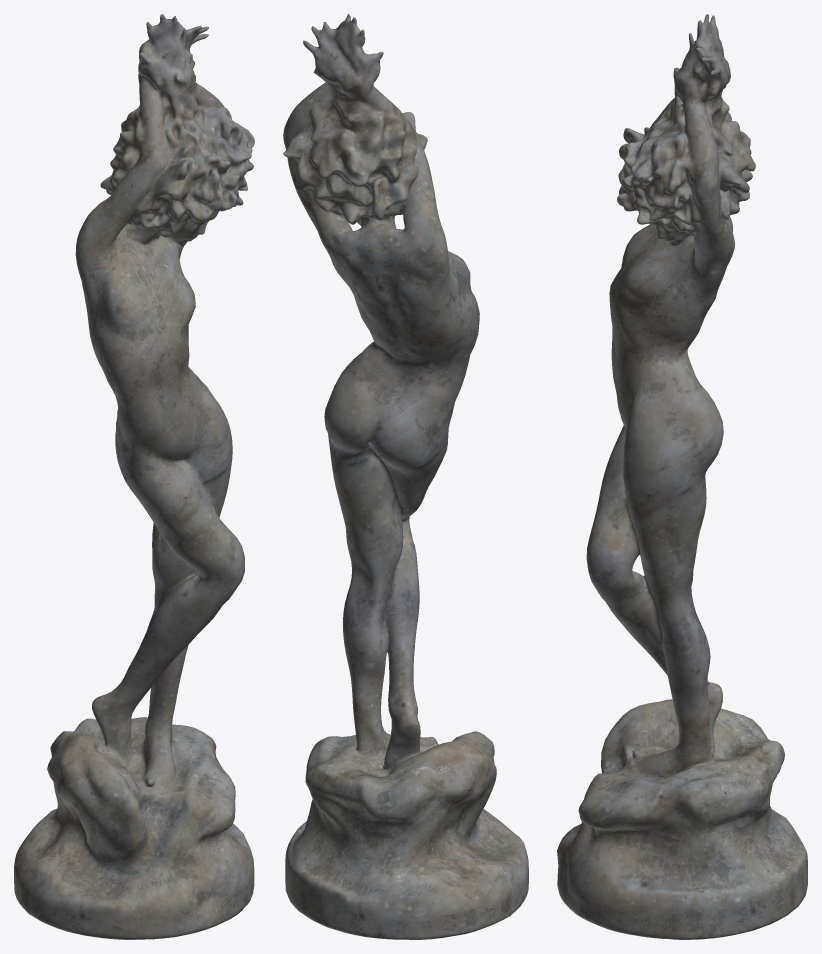
Rendered from preview.glb.
3 views of the same model, side by side, from view 1: azimuth 30°, elevation 25°; view 2: azimuth 150°, elevation 25°; view 3: azimuth 270°, elevation 25° (orthographic). The views are drawn at different scales.
Parts seen in each view (by area): view 1: UNDINE_low; view 2: UNDINE_low; view 3: UNDINE_low.
Boxes of the visible parts, left/top/right/bottom form: UNDINE_low: left=14, top=14, right=254, bottom=939; UNDINE_low: left=283, top=14, right=528, bottom=939; UNDINE_low: left=557, top=14, right=807, bottom=939.
Bounding box in the file's own units: 5.58 × 20.91 × 5.31.
1 material, 1 textured.
